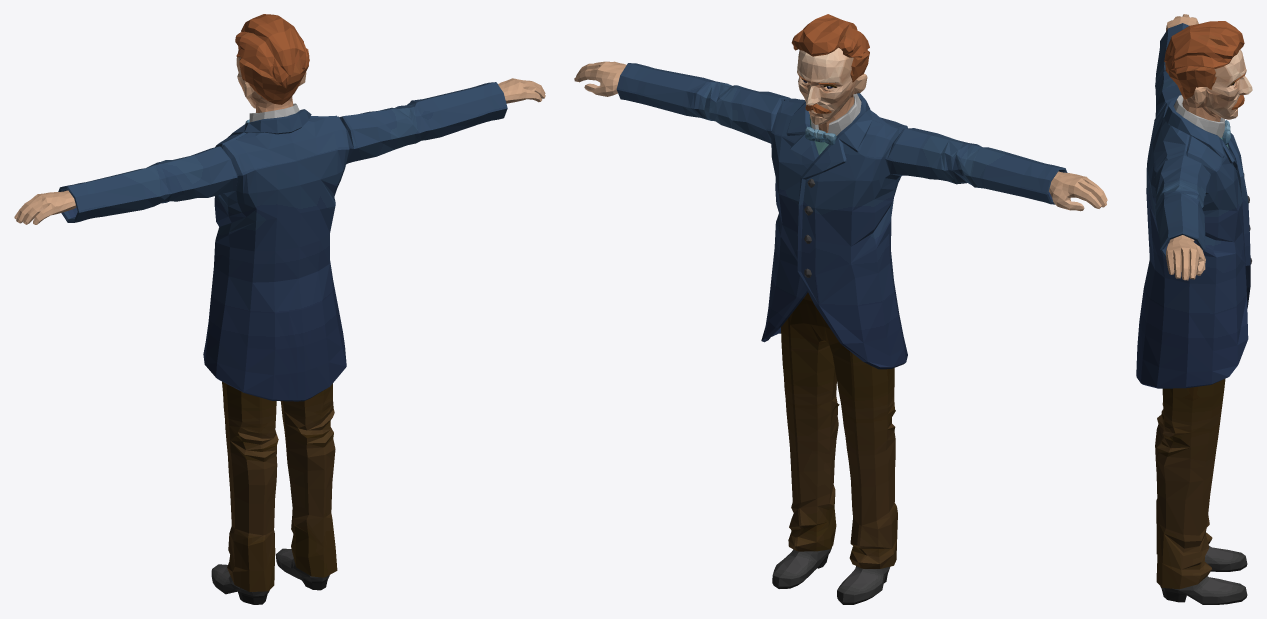
The model's file is NPC_AP31Brother.glb.
The picture shows the model from 3 angles, left to right: view 1: azimuth 30°, elevation 25°; view 2: azimuth 150°, elevation 25°; view 3: azimuth 270°, elevation 25°; orthographic projection.
Parts seen in each view (by area): view 1: NPC_AP31Brother; view 2: NPC_AP31Brother; view 3: NPC_AP31Brother.
Boxes of the visible parts, x1=… form: NPC_AP31Brother: x1=14, y1=14, x2=545, y2=604; NPC_AP31Brother: x1=574, y1=14, x2=1107, y2=604; NPC_AP31Brother: x1=1136, y1=14, x2=1252, y2=604.
Size of the model in its own units: 13.75 by 13.9 by 2.63.
Materials: 1 (1 with a texture image).
